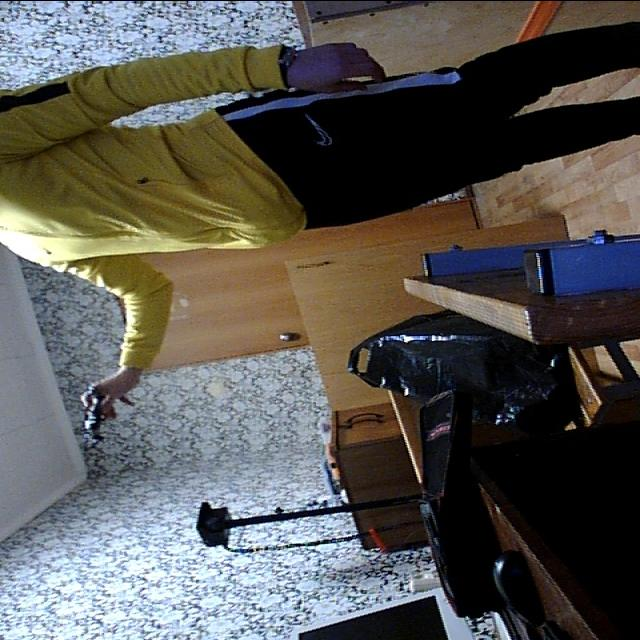drone: (75, 376, 125, 446)
